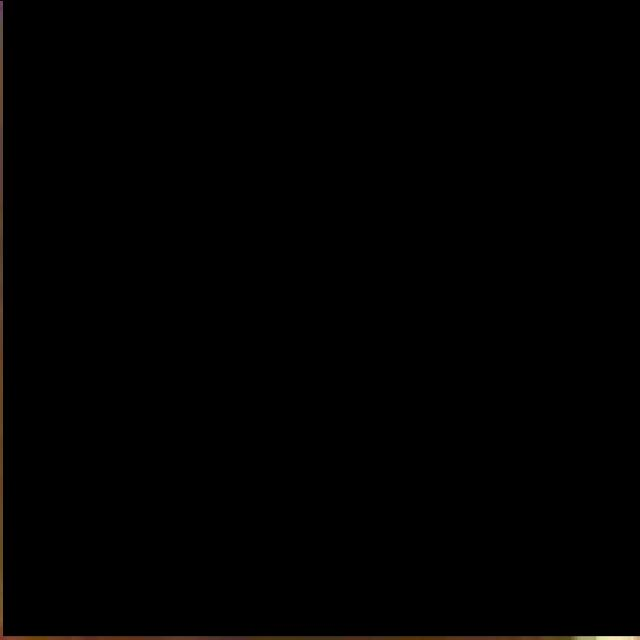smoke: (3, 0, 640, 635)
